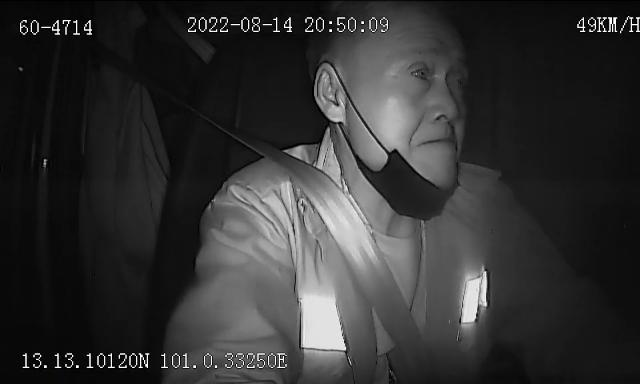SafeDriving: (404, 56, 438, 87)
Seatbelt: (182, 67, 484, 339)
